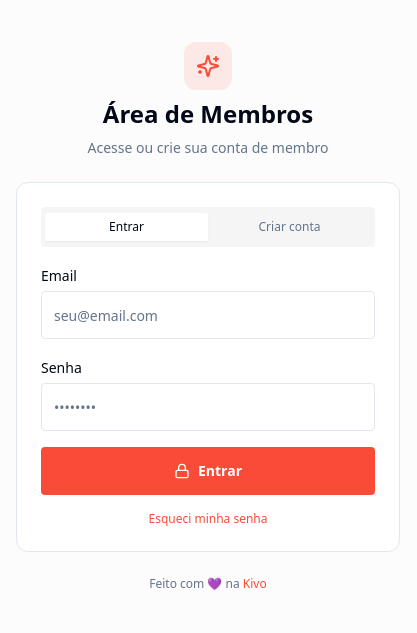
Test case: MemberLogin — cadastro de membro com código de 4 dígitos › login existente não confirmado é bloqueado
This screenshot has width=417, height=633.
Type "membro@teste.com" into the field with placeholder "seu@email.com".
click(208, 315); type("membro@teste.com")  # box top-left (41, 291), bottom-right (375, 339)
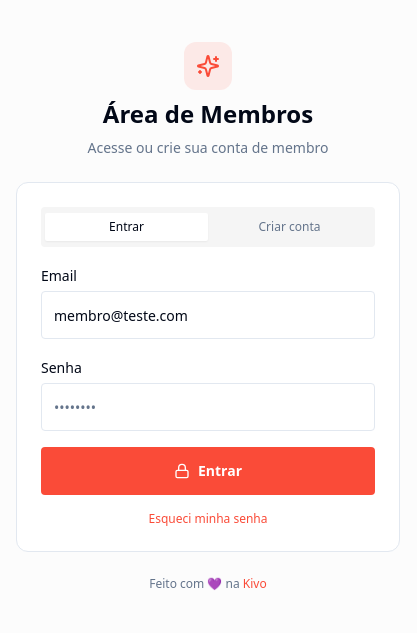
Type "senhaforte1" into the password field with placeholder "••••••••".
click(208, 407); type("senhaforte1")  # box top-left (41, 383), bottom-right (375, 431)
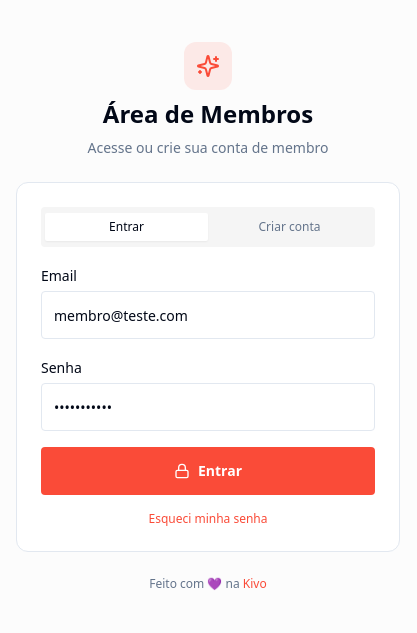
Click the button "Entrar".
click(208, 471)  # box top-left (41, 447), bottom-right (375, 495)
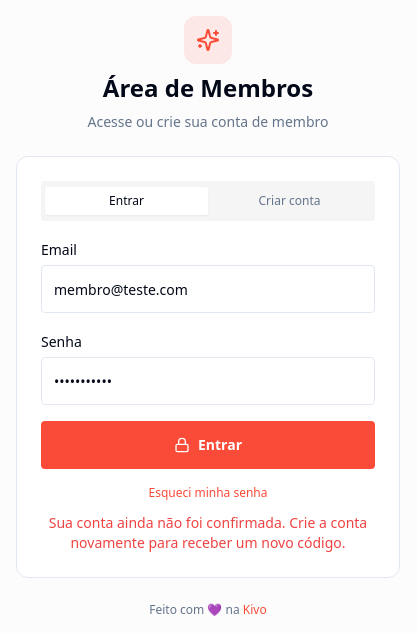
Check: the message shows "não foi confirmada", box top-left (49, 513), bottom-right (367, 552)
